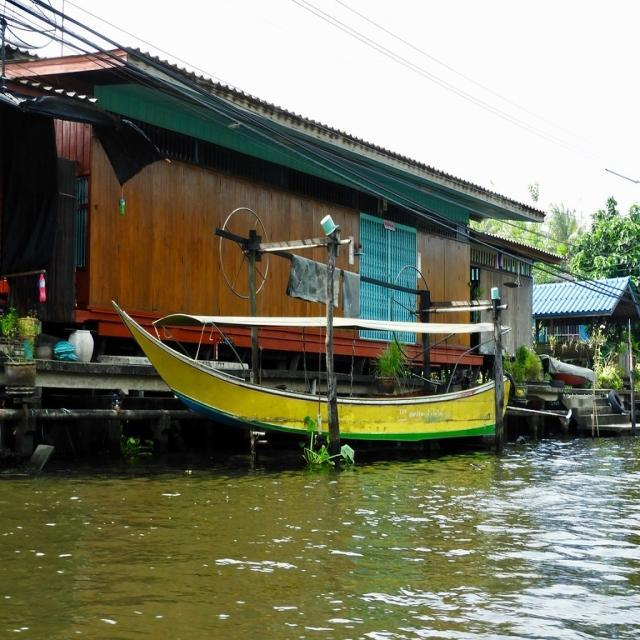Hyacinth: (294, 423, 366, 470)
boat: (119, 286, 513, 457)
